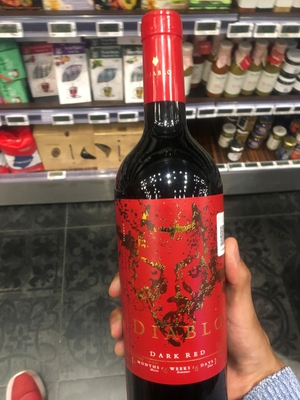diablo dark red: (106, 20, 254, 400)
